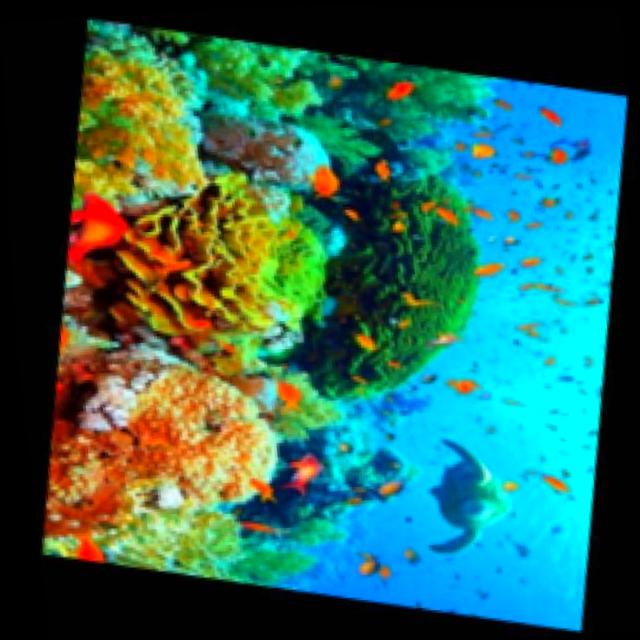Healthy Coral: (294, 164, 521, 409), (16, 360, 291, 550), (91, 161, 343, 346), (76, 48, 233, 199), (176, 18, 361, 133)
